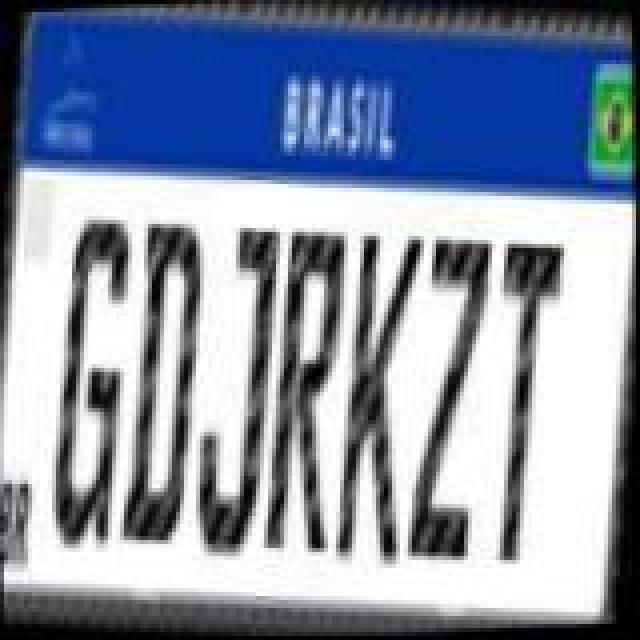D: (110, 216, 222, 552)
G: (38, 208, 150, 548)
J: (176, 214, 292, 562)
K: (320, 226, 436, 570)
R: (254, 218, 366, 558)
T: (464, 234, 576, 570)
Z: (390, 230, 502, 566)
